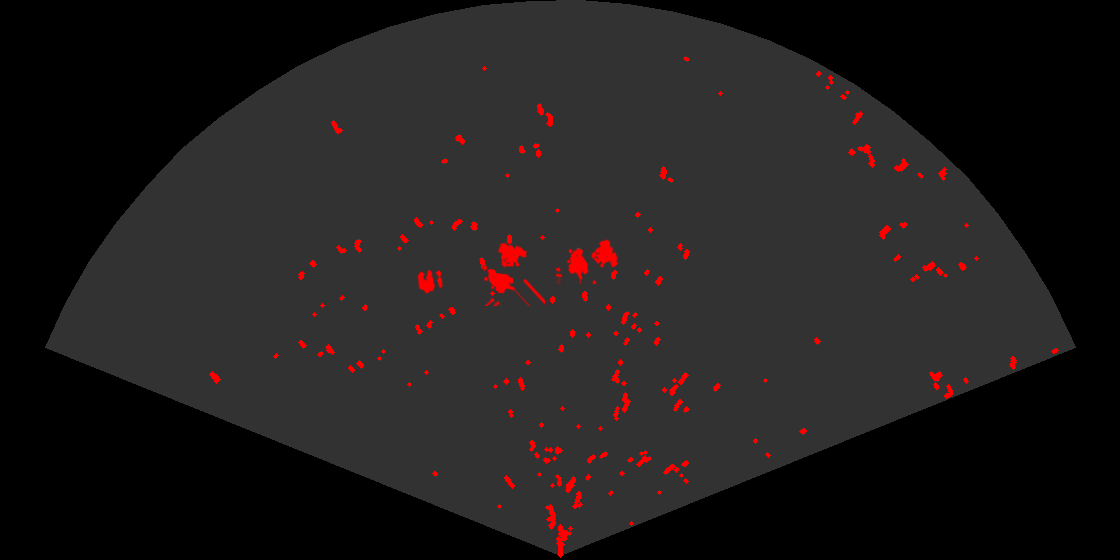ball: (416, 268, 444, 295)
cage: (482, 241, 545, 306), (556, 238, 620, 284)
